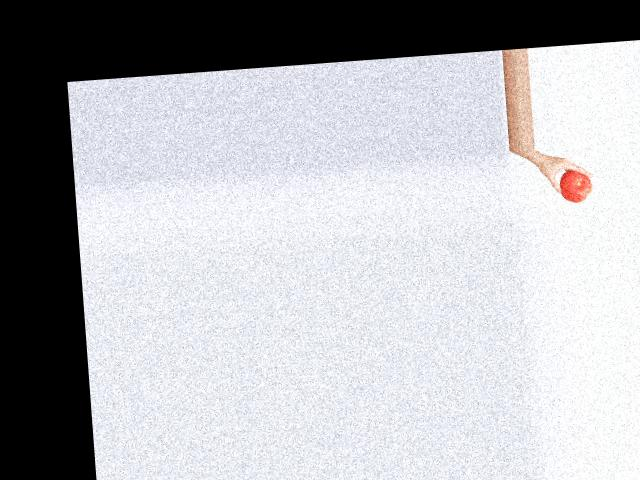tomato: (559, 169, 593, 203)
